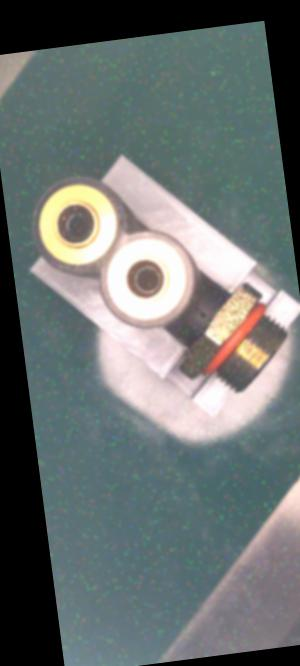craze: (192, 303, 210, 325)
